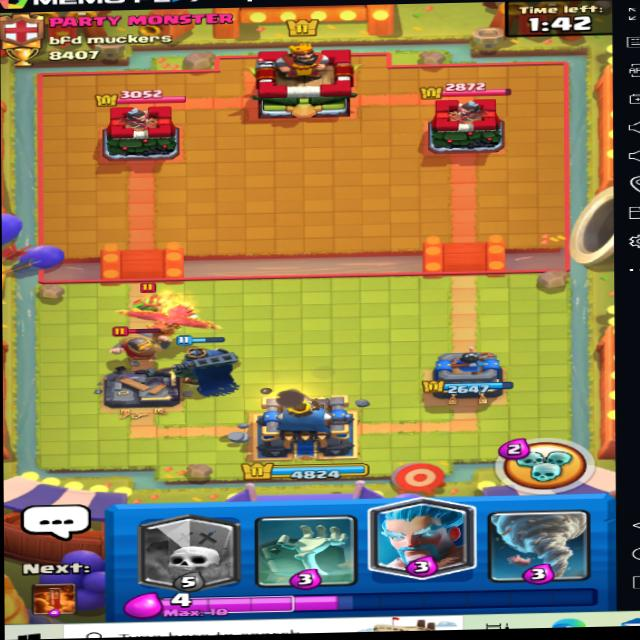knight: (102, 317, 177, 369)
spear-goblin: (112, 281, 166, 316)
